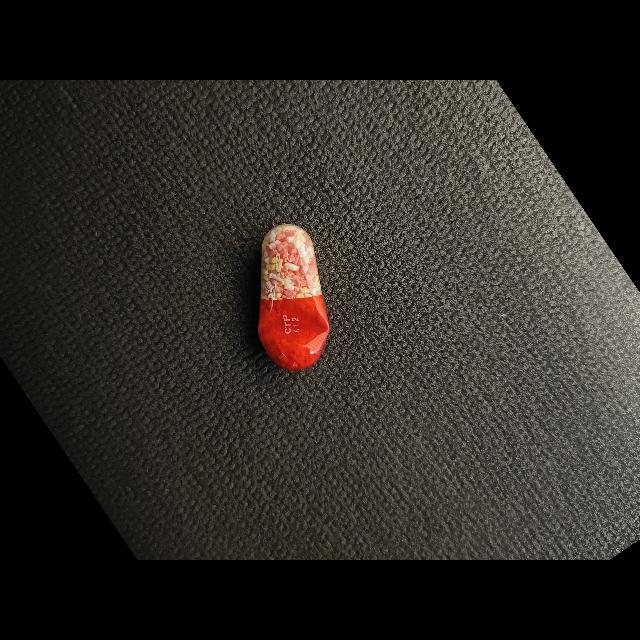Defective Capsule: (258, 224, 330, 371)
